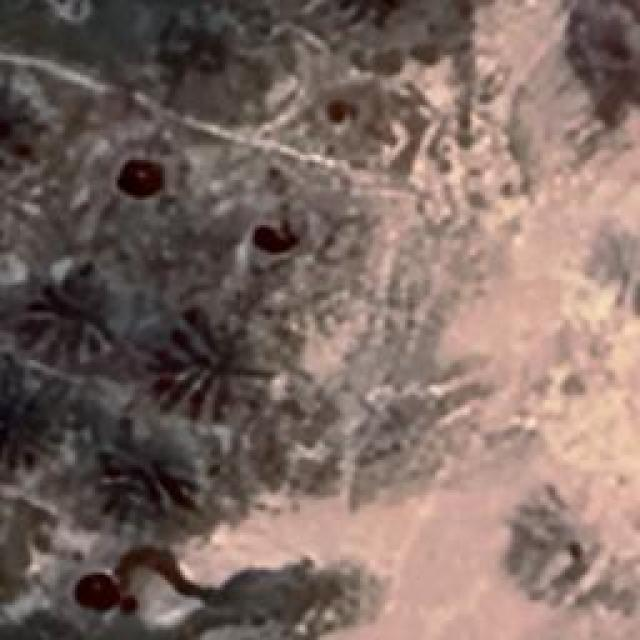PalmTree: (35, 118, 70, 425), (110, 428, 208, 524), (168, 318, 270, 410), (28, 268, 116, 362), (155, 1, 246, 90), (326, 0, 420, 36)
